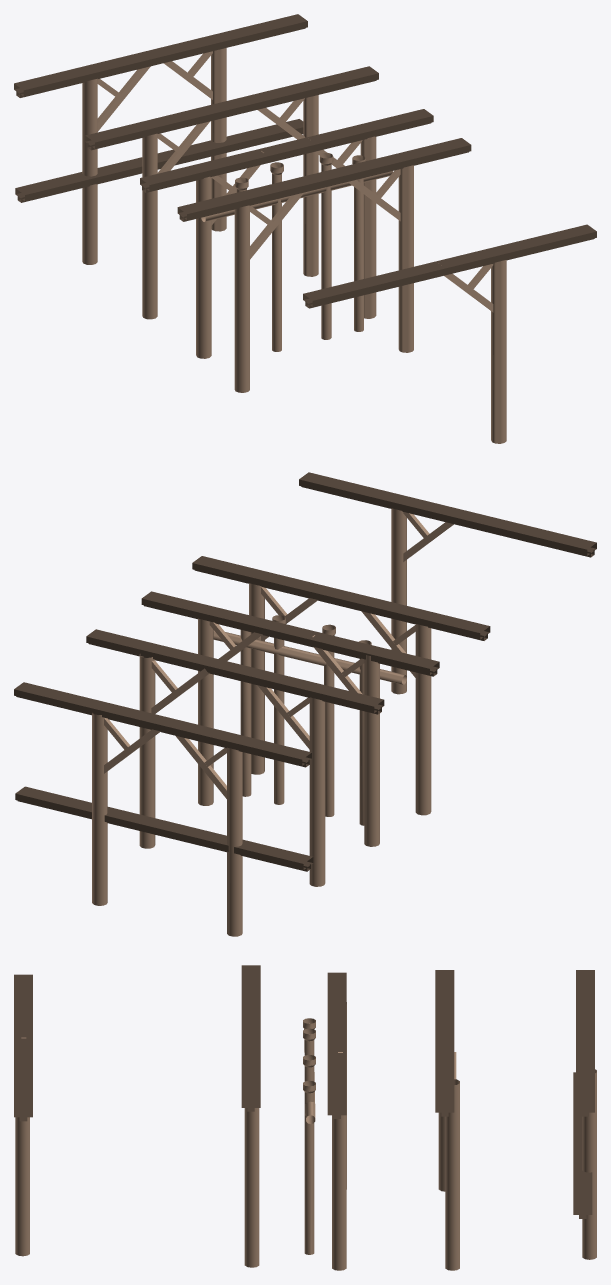
The model's file is ACT3_Pillars.fbx.
The picture shows the model from 3 angles, top to bottom: view 1: azimuth 30°, elevation 25°; view 2: azimuth 150°, elevation 25°; view 3: azimuth 270°, elevation 25°; orthographic projection. The views are drawn at different scales.
Visible parts, largest first — view 1: Balk_b (×6), Pillar_base (×9), Pillar_side (×3), Pillar_10, Pillar_09, Pillar_12, Pillar_Over_03; view 2: Balk_b (×6), Pillar_base (×9), Pillar_09, Pillar_Over_03, Pillar_12, Pillar_10, Pillar_side (×2), Pillar_11; view 3: Balk_b (×6), Pillar_base (×6), Pillar_12.
Boxes of the visible parts, bbox=[...] form: Balk_b (×6): bbox=[14, 14, 596, 306]; Pillar_base (×9): bbox=[82, 48, 506, 443]; Pillar_side (×3): bbox=[97, 66, 303, 259]; Pillar_10: bbox=[319, 153, 333, 339]; Pillar_09: bbox=[270, 162, 283, 351]; Pillar_12: bbox=[352, 155, 365, 331]; Pillar_Over_03: bbox=[201, 171, 392, 221]; Balk_b (×6): bbox=[14, 472, 596, 870]; Pillar_base (×9): bbox=[92, 508, 431, 936]; Pillar_09: bbox=[322, 624, 335, 816]; Pillar_Over_03: bbox=[213, 630, 406, 684]; Pillar_12: bbox=[240, 630, 251, 796]; Pillar_10: bbox=[272, 615, 285, 804]; Pillar_side (×2): bbox=[175, 685, 309, 798]; Pillar_11: bbox=[359, 640, 371, 825]; Balk_b (×6): bbox=[14, 965, 594, 1214]; Pillar_base (×6): bbox=[15, 1069, 596, 1270]; Pillar_12: bbox=[303, 1080, 315, 1254].
Bounding box in the file's own units: 17.12 × 10.74 × 29.66.
